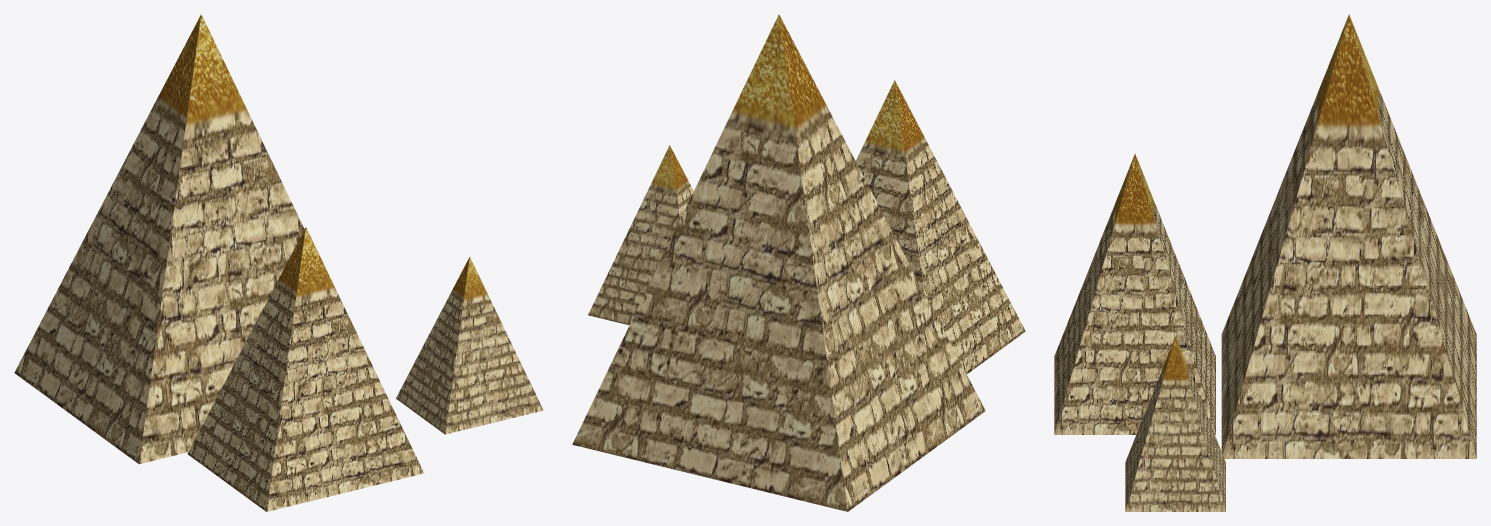
File: pyramide.obj
3 views of the same model, side by side, from view 1: azimuth 30°, elevation 25°; view 2: azimuth 150°, elevation 25°; view 3: azimuth 270°, elevation 25° (orthographic). The views are drawn at different scales.
Visible parts, largest first — view 1: pyramide_Cube.003; view 2: pyramide_Cube.003; view 3: pyramide_Cube.003.
Boxes of the visible parts, x1=… form: pyramide_Cube.003: x1=14, y1=14, x2=543, y2=511; pyramide_Cube.003: x1=572, y1=14, x2=1025, y2=511; pyramide_Cube.003: x1=1054, y1=14, x2=1476, y2=511.
Bounding box in the file's own units: 1 × 1 × 1.
